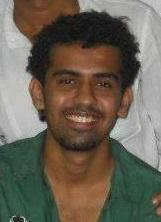No Mask: (22, 29, 142, 161)
